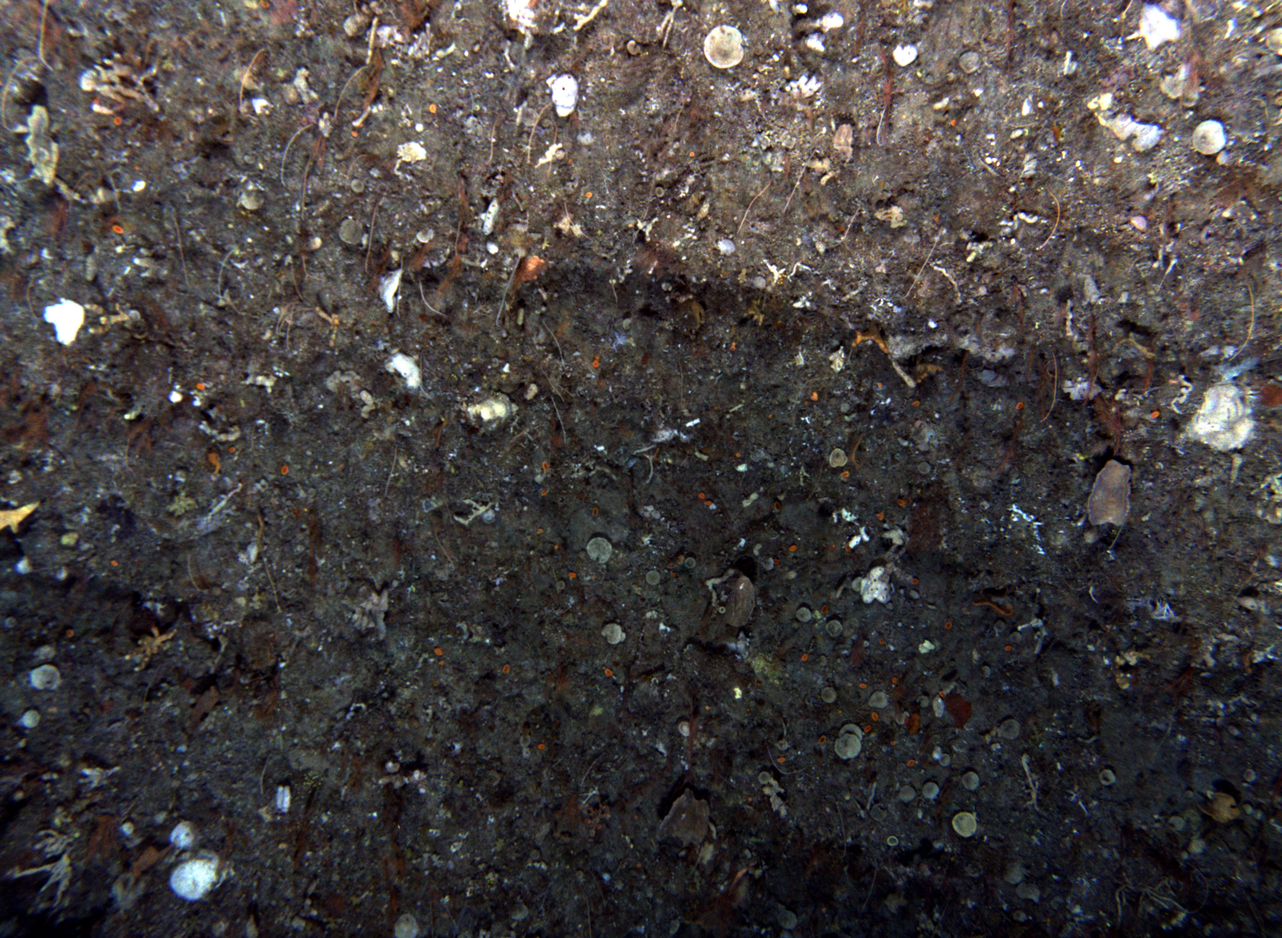Brachionichthyidae: (177, 684, 220, 737)
